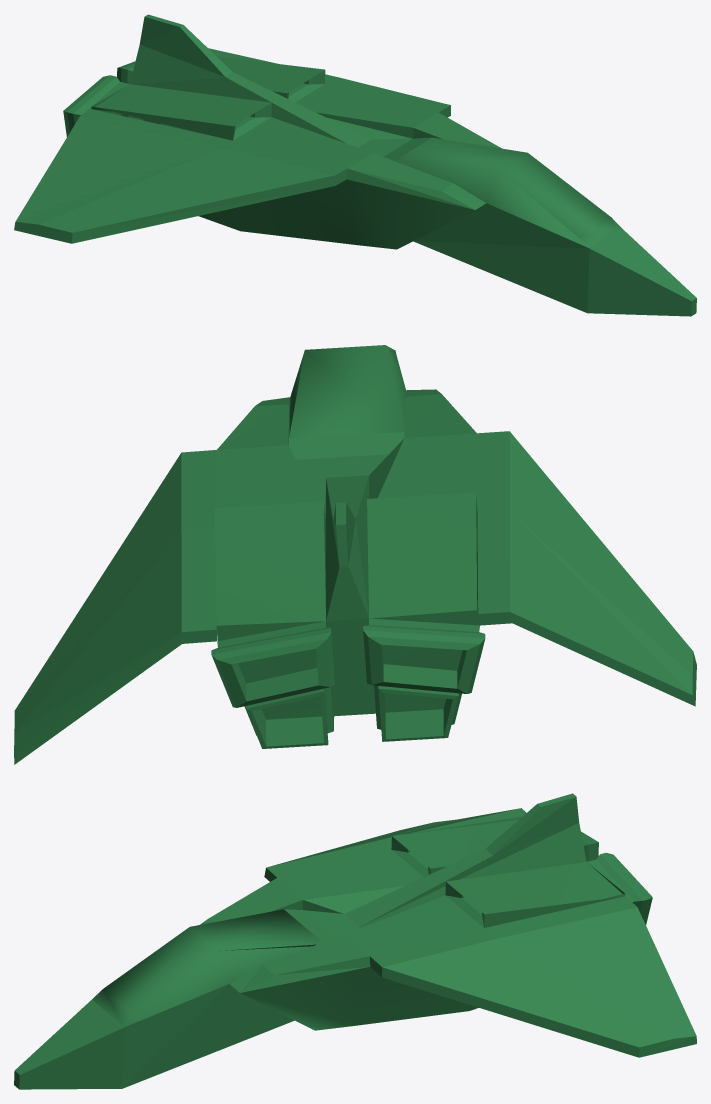
3 renders of one model, top to bottom at view 1: azimuth 30°, elevation 25°; view 2: azimuth 150°, elevation 25°; view 3: azimuth 270°, elevation 25°, orthographic. The views are drawn at different scales.
Parts seen in each view (by area): view 1: Plane; view 2: Plane; view 3: Plane.
Part boxes in pixels (x1,y1,x2,y2): Plane: [14, 14, 696, 316]; Plane: [14, 345, 696, 764]; Plane: [14, 793, 696, 1089].
Bounding box in the file's own units: 203 × 72.25 × 258.
